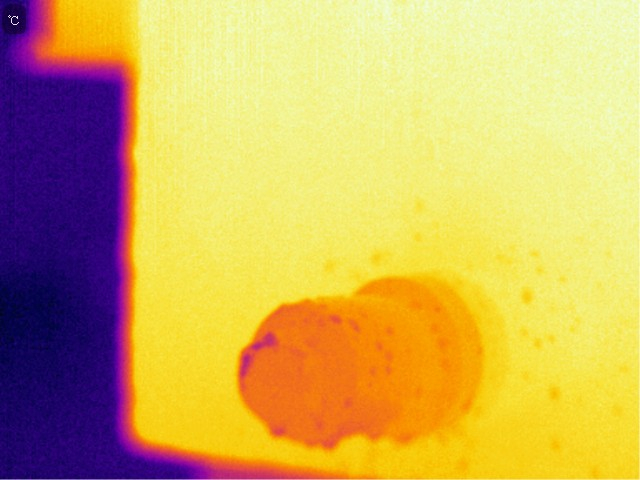Water: (265, 420, 289, 440), (319, 433, 341, 452), (366, 428, 386, 444), (392, 428, 412, 443), (324, 313, 343, 325)
